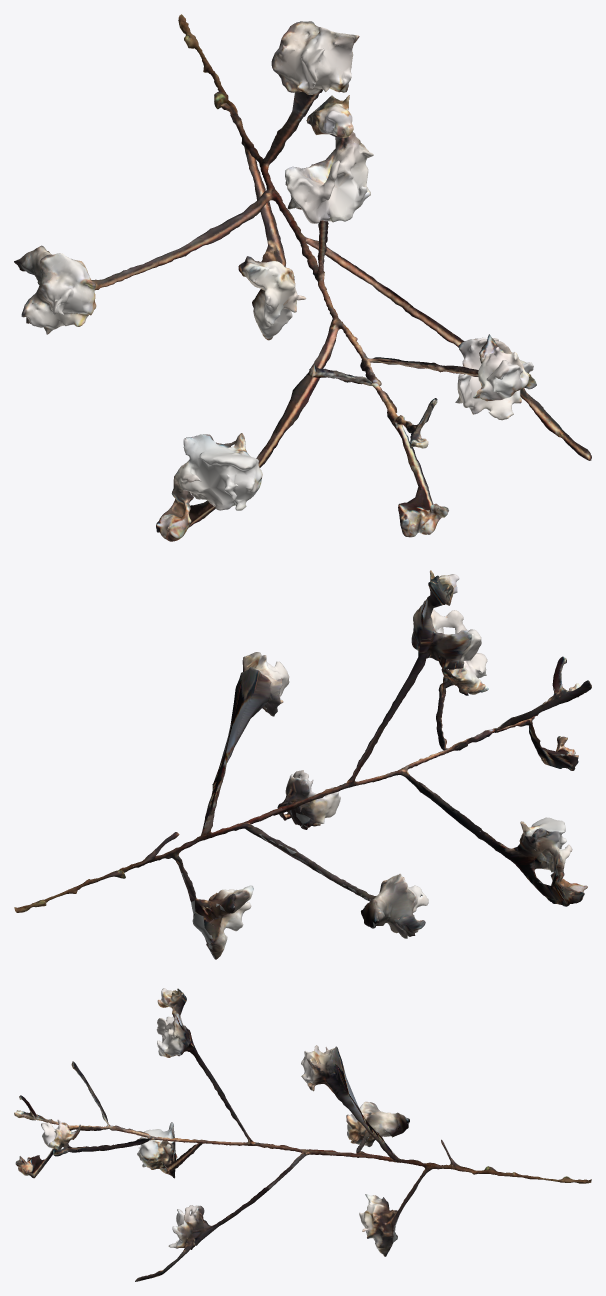
The model's file is plant_21_grouped.obj.
3 renders of one model, top to bottom at view 1: azimuth 30°, elevation 25°; view 2: azimuth 150°, elevation 25°; view 3: azimuth 270°, elevation 25°, orthographic. The views are drawn at different scales.
Parts seen in each view (by area): view 1: Cotton_Boll_Part, Cotton_Remaining; view 2: Cotton_Boll_Part, Cotton_Remaining; view 3: Cotton_Boll_Part, Cotton_Remaining.
Boxes of the visible parts, <box> form: Cotton_Boll_Part: <box>14,21,533,541</box>; Cotton_Remaining: <box>91,14,591,527</box>; Cotton_Boll_Part: <box>192,570,587,959</box>; Cotton_Remaining: <box>14,591,591,912</box>; Cotton_Boll_Part: <box>15,988,409,1256</box>; Cotton_Remaining: <box>14,1001,591,1281</box>.
Bounding box in the file's own units: 1.77 × 1.67 × 3.7.
Materials: 1 (1 with a texture image).
